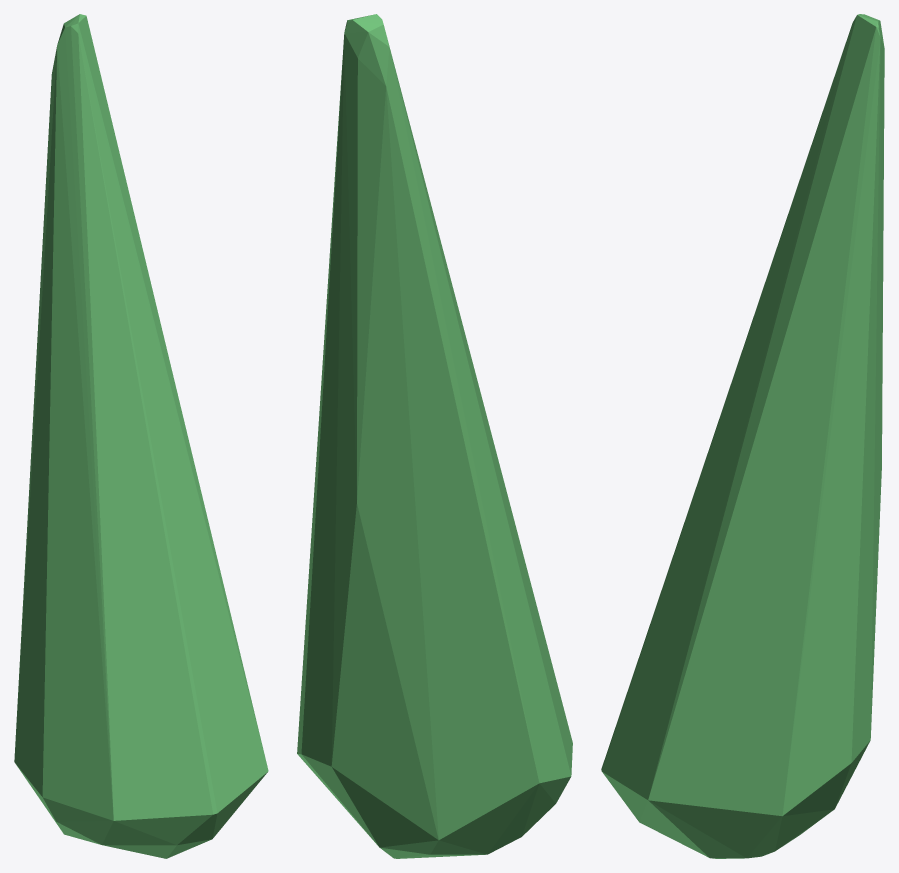
Rendered from kitchenware_ladle_d01.glb.
3 views of the same model, side by side, from view 1: azimuth 30°, elevation 25°; view 2: azimuth 150°, elevation 25°; view 3: azimuth 270°, elevation 25° (orthographic). The views are drawn at different scales.
Parts seen in each view (by area): view 1: geometry_0; view 2: geometry_0; view 3: geometry_0.
Part boxes in pixels (<box>): geometry_0: <box>14,14,268,858</box>; geometry_0: <box>297,14,572,858</box>; geometry_0: <box>601,14,884,858</box>.
Bounding box in the file's own units: 0.1337 × 0.4774 × 0.1479.
